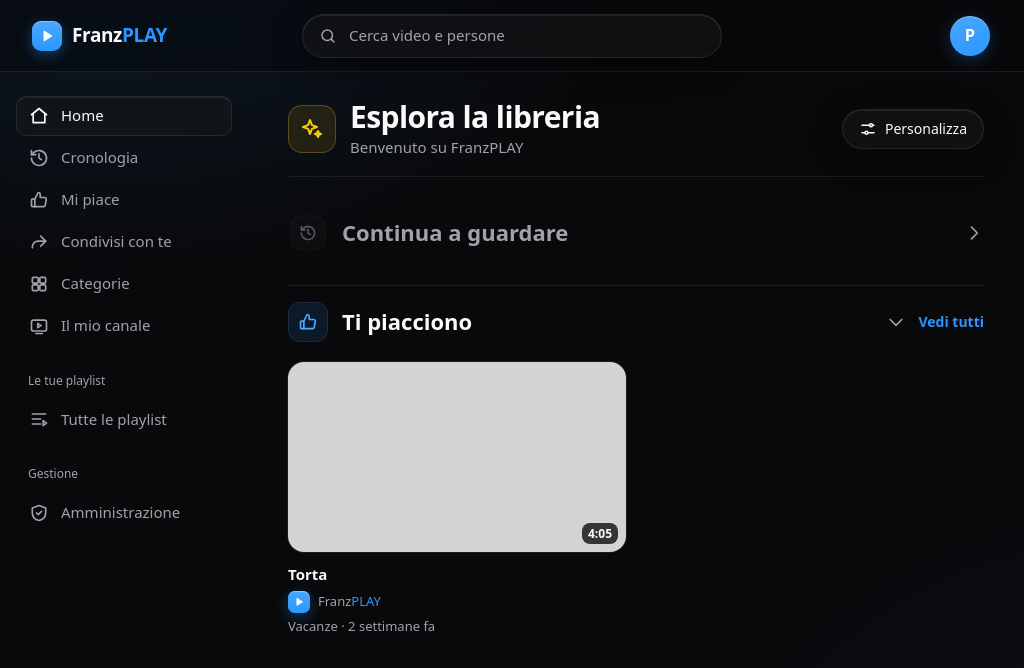
Scenario: home rows › shows closed the rows the person closed before
Click the button "Continua a guardare" at point(308, 233), box [280,205,992,261]
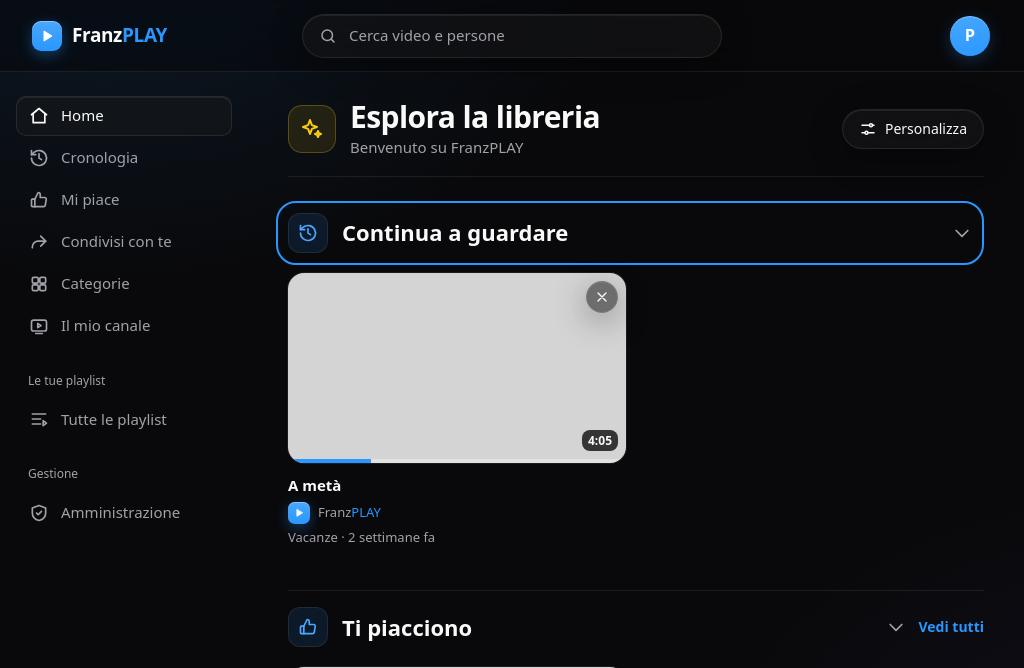
Now the heading "A metà" is shown, box [288,475,341,495]
